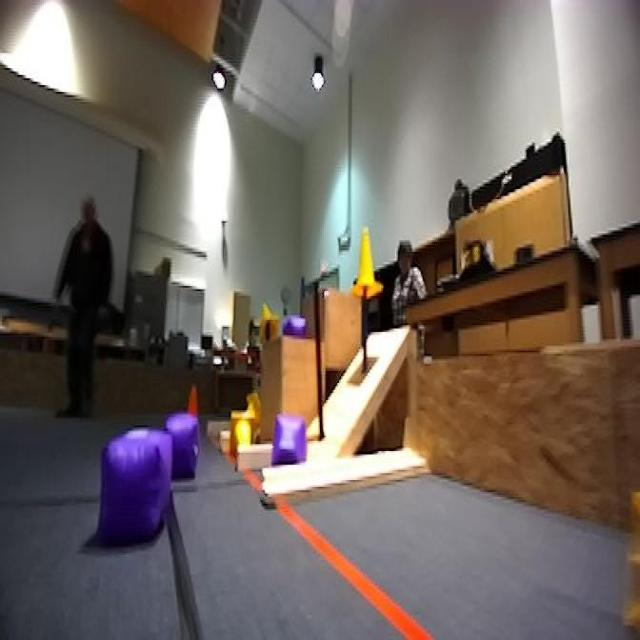frc_cone: (354, 235, 380, 303), (229, 414, 257, 446), (258, 303, 279, 342)
frc_cube: (99, 429, 181, 548), (166, 414, 203, 480), (272, 410, 308, 468), (286, 313, 310, 342)
